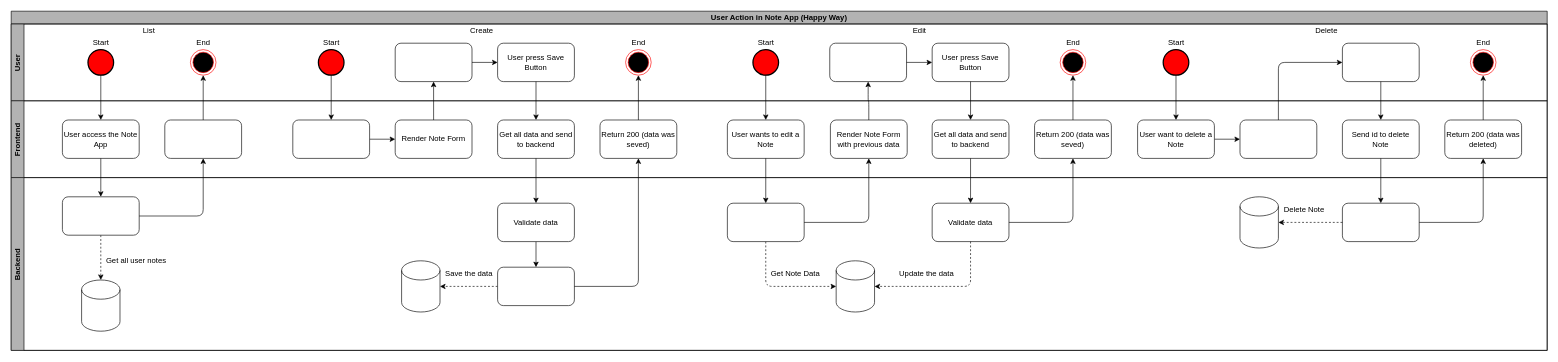
This 1558x362 diagram has some shape labels left out. The centre of each missing label's shape, as x and y in pixels:
"Add timestamp date of registry" goes at pixel 535 286.
"Delete the Note" goes at pixel 1380 222.
"Render the list of all user Notes" goes at pixel 203 138.
"Return Note Data" goes at pixel 765 222.
"Return User Notes" goes at pixel 100 215.
"Show Modal to confirm" goes at pixel 1278 138.
"User Confirm to delete Note" goes at pixel 1380 62.
"User edit the note" goes at pixel 868 62.
"User insert the data" goes at pixel 433 62.
"User wants to add a new Note" goes at pixel 331 138.
